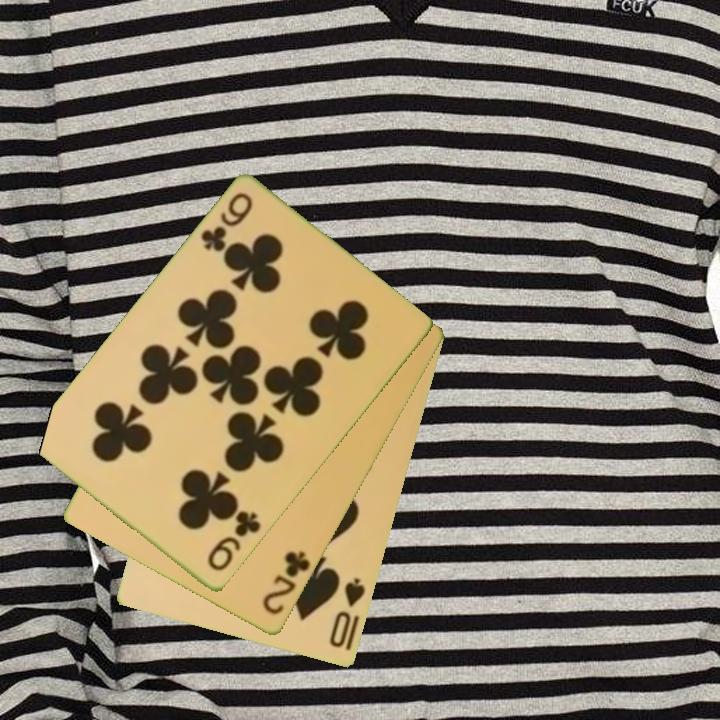10s: (326, 574, 369, 651)
2c: (259, 547, 314, 619)
9c: (203, 507, 264, 575), (197, 189, 256, 256)
